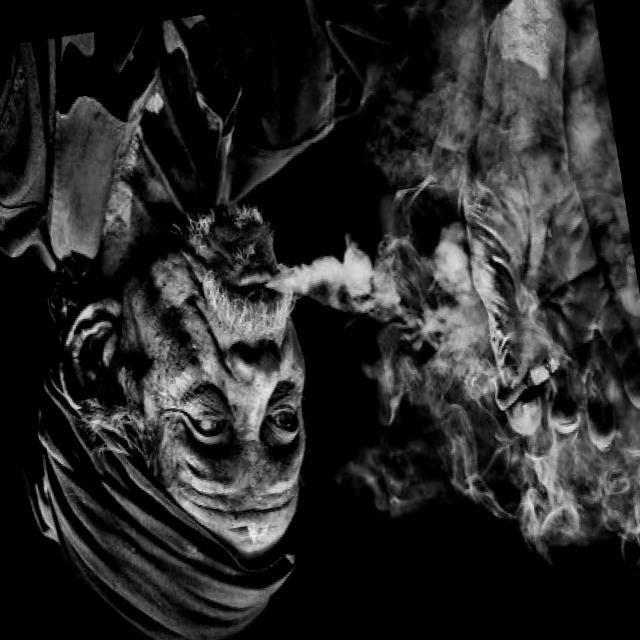cigarette: (488, 348, 570, 414)
